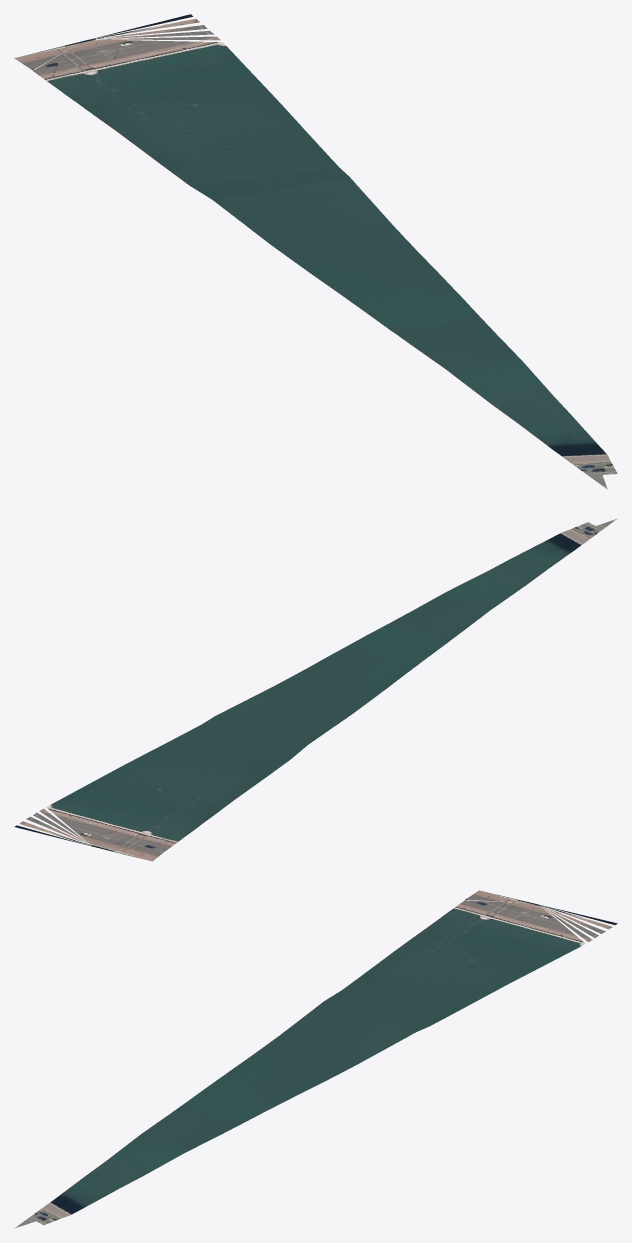
Rendered from gml_ca89eda0-46ef-4c3b-8e69-8b65157d50ea.gltf.
The picture shows the model from 3 angles, top to bottom: view 1: azimuth 30°, elevation 25°; view 2: azimuth 150°, elevation 25°; view 3: azimuth 330°, elevation 25°; orthographic projection. The views are drawn at different scales.
Parts seen in each view (by area): view 1: Z_UP; view 2: Z_UP; view 3: Z_UP.
Part boxes in pixels (<box>): Z_UP: <box>14,14,617,489</box>; Z_UP: <box>14,518,617,861</box>; Z_UP: <box>14,890,617,1228</box>.
Bounding box in the file's own units: 67.16 × 1.79 × 391.
Materials: 1 (1 with a texture image).
